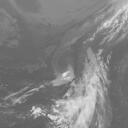cyclone: (59, 65, 102, 112)
